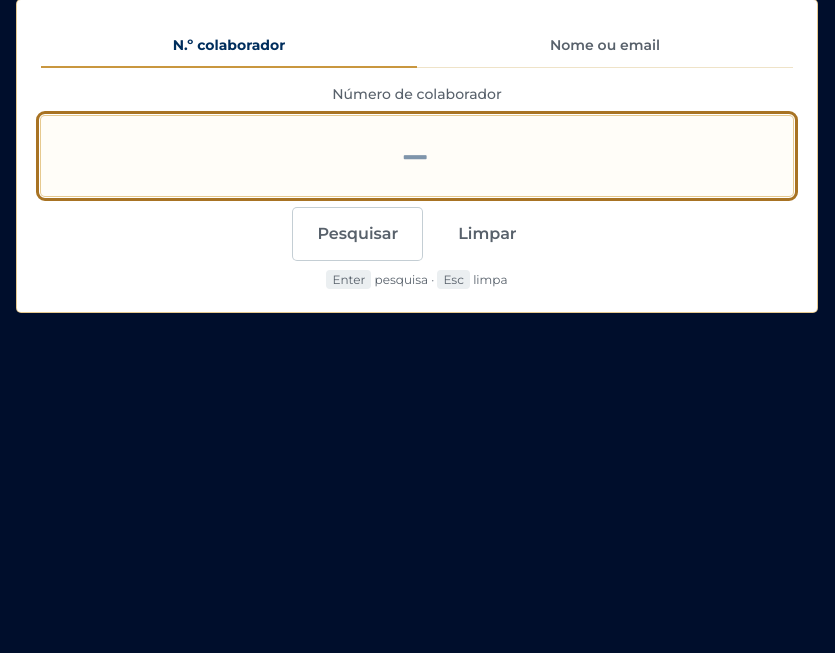
Scenario: ecrã de distribuição › reutiliza a chave de idempotência em pedidos repetidos da mesma pesquisa
The width and height of the screenshot is (835, 653).
Type keys "12345{Enter}"
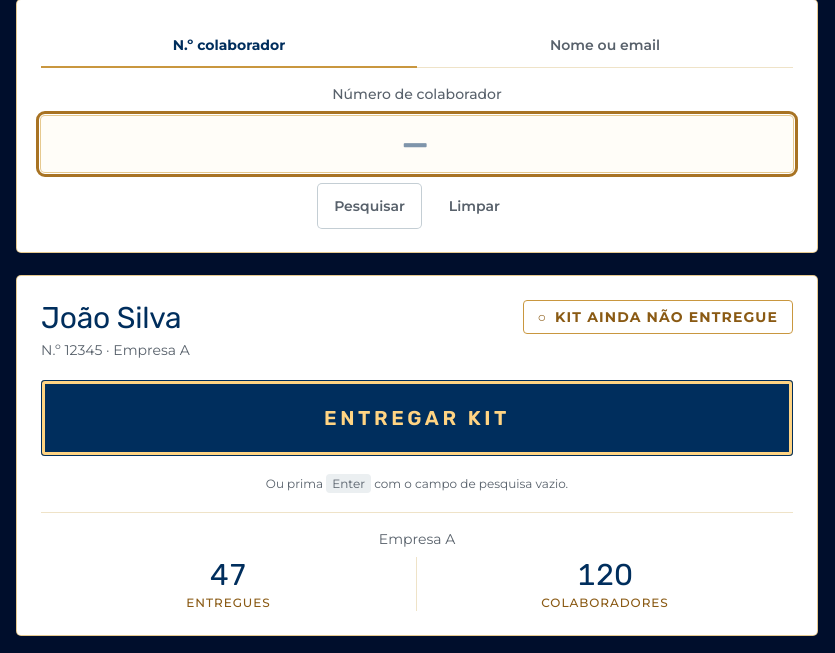
Expected: the heading "João Silva" is shown, [41,300,190,336]
Click the button "ENTREGAR KIT". click: (417, 418)
box: [41,380,793,456]
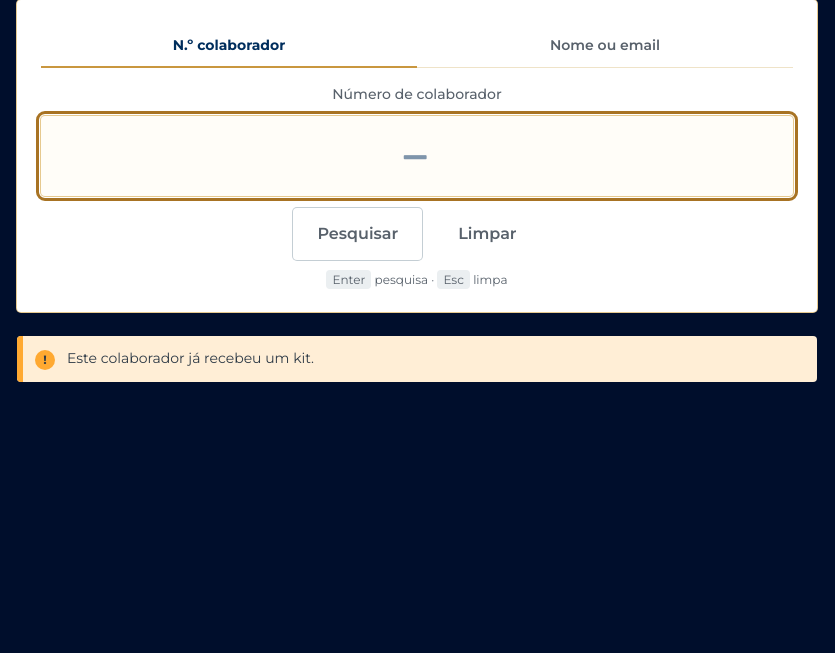
Expected: the message "! Este colaborador já recebeu um kit." is shown, [17,336,817,382]
